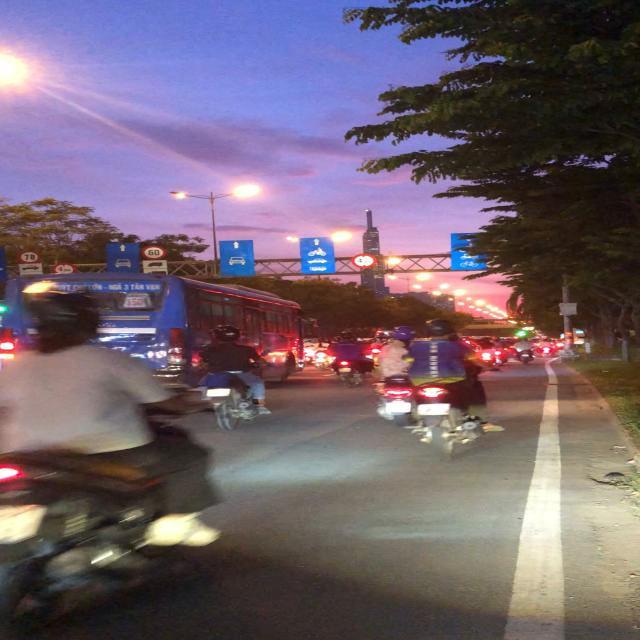Bien bao han che chieu cao: (345, 252, 385, 270)
Bien bao toc do toi da cho phep: (140, 243, 170, 260), (16, 248, 44, 264)
